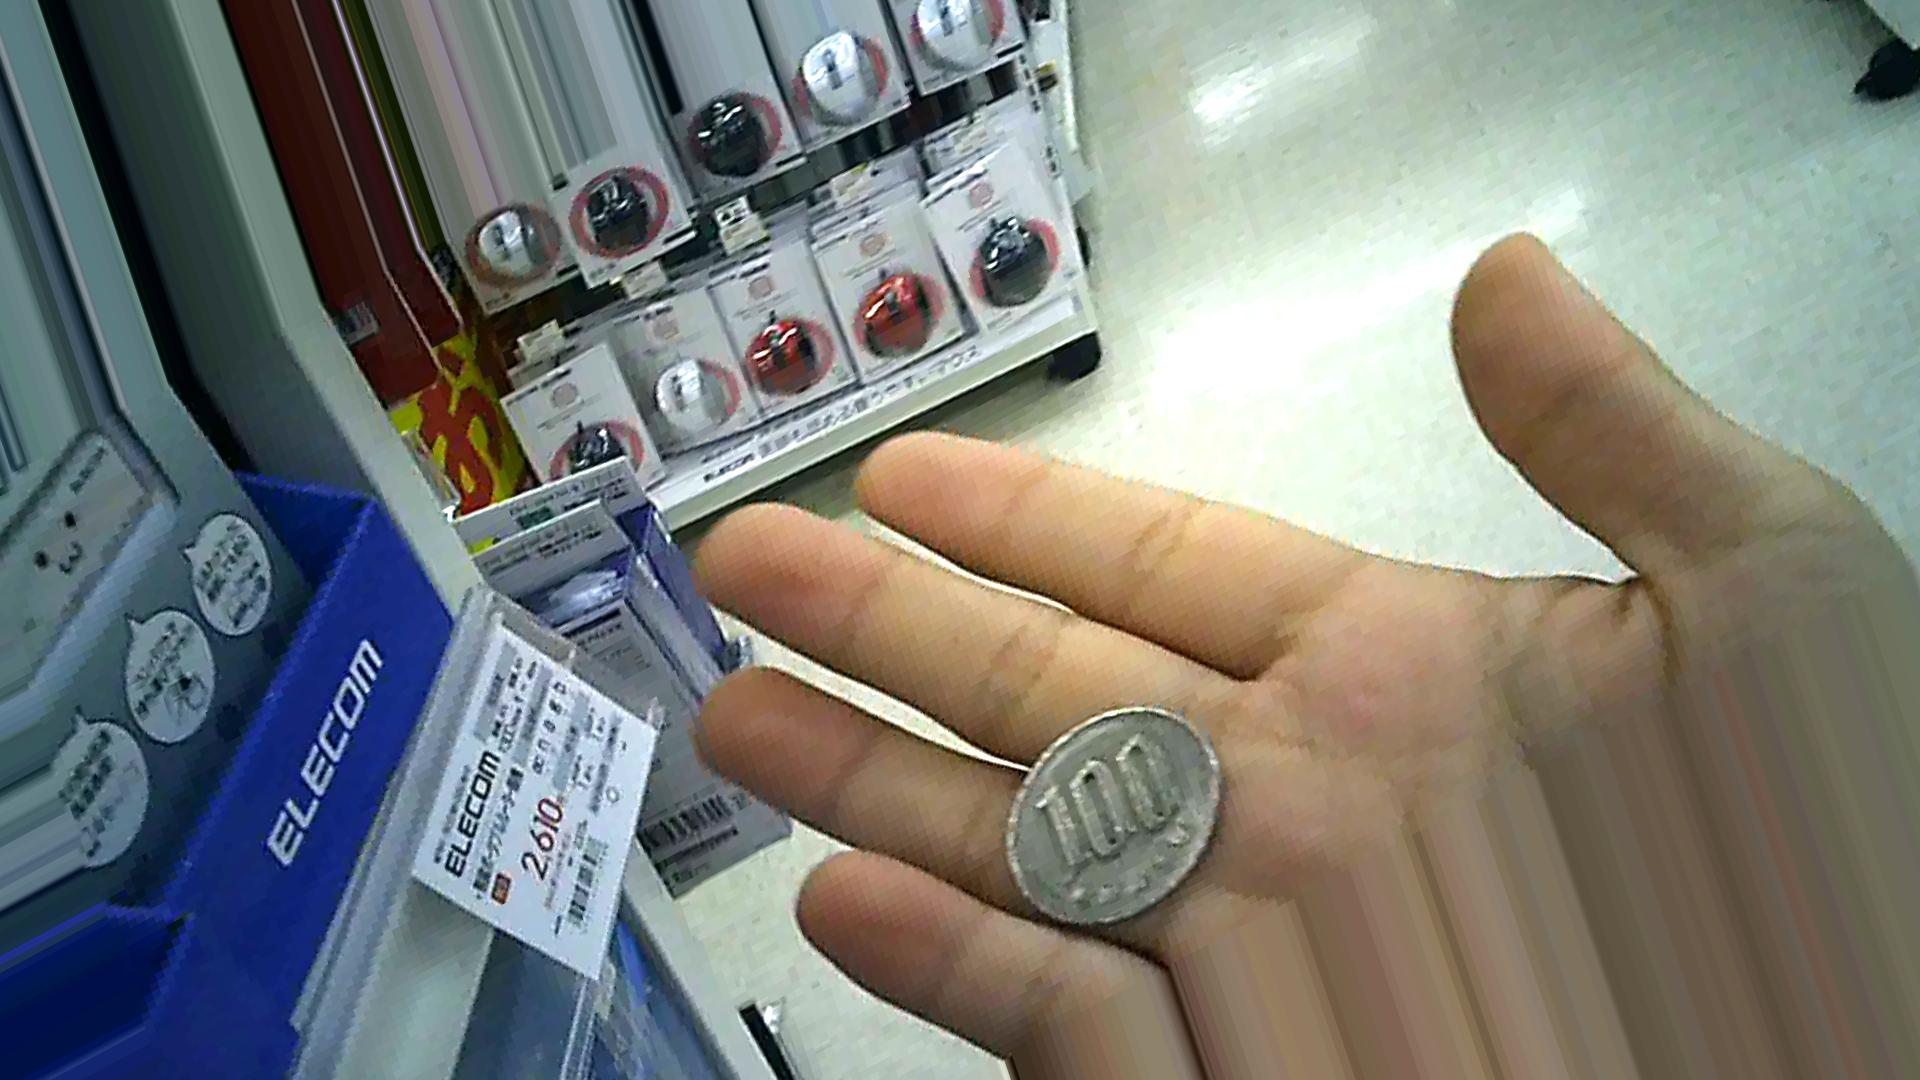100 Yen: (1005, 702, 1224, 932)
